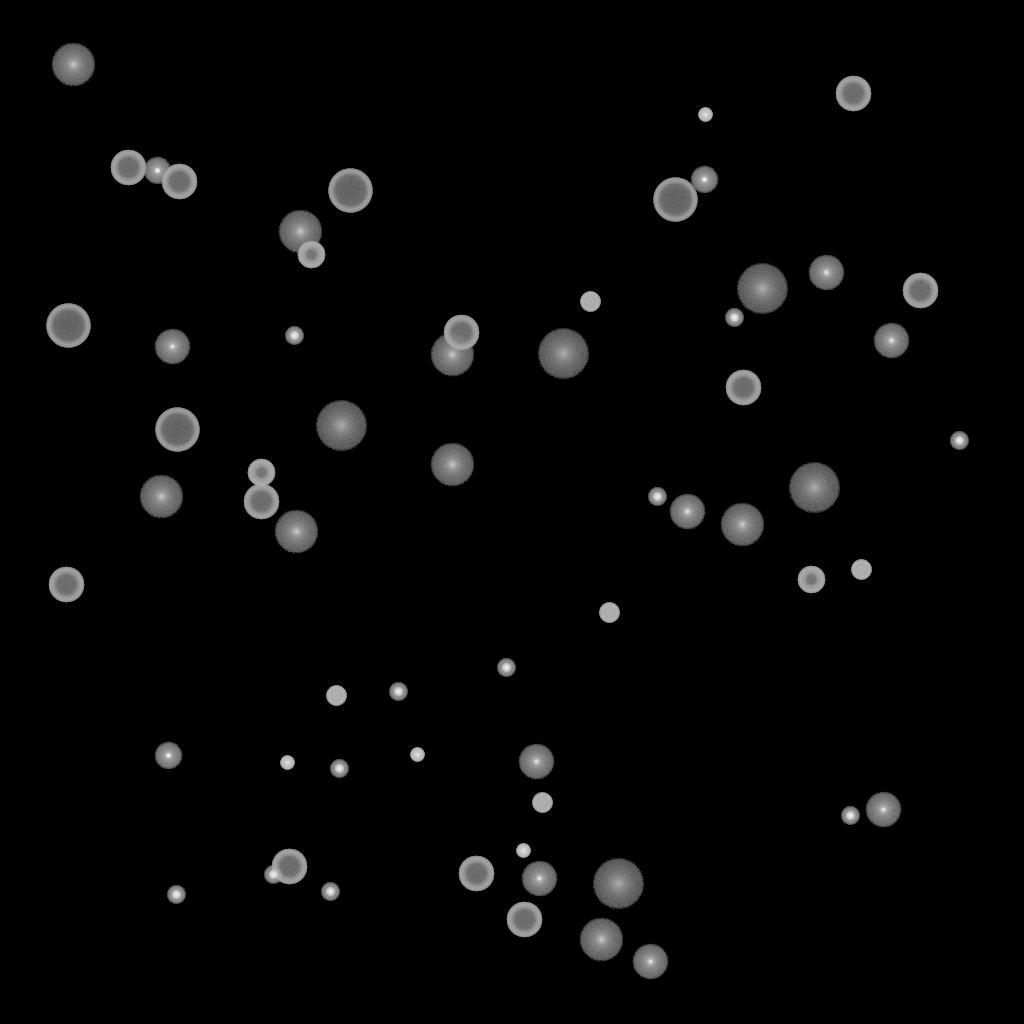depth:-10: (143, 157, 171, 185), (154, 742, 182, 770), (690, 166, 718, 194)
depth:-20: (167, 886, 185, 904), (725, 309, 743, 327), (950, 432, 968, 450), (648, 488, 666, 506), (389, 683, 407, 701), (321, 883, 339, 901), (285, 327, 303, 345), (497, 659, 515, 677), (330, 760, 348, 778), (841, 807, 859, 825), (264, 866, 282, 884)
depth:-30: (698, 108, 712, 122), (410, 748, 424, 762), (516, 844, 530, 858), (280, 756, 294, 770)
depth:-40: (851, 560, 871, 580), (326, 686, 346, 706), (599, 603, 619, 623), (580, 292, 600, 312), (532, 793, 552, 813)
depth:-50: (797, 566, 825, 594), (247, 459, 275, 487), (297, 241, 325, 269)
depth:-60: (835, 76, 871, 112), (902, 273, 938, 309), (243, 484, 279, 520), (443, 315, 479, 351), (110, 150, 146, 186), (506, 902, 542, 938), (458, 856, 494, 892), (161, 164, 197, 200), (48, 567, 84, 603), (271, 849, 307, 885), (725, 370, 761, 406)
depth:-70: (155, 408, 199, 452), (328, 169, 372, 213), (653, 178, 697, 222), (46, 304, 90, 348)
depth:0: (154, 329, 190, 365), (873, 323, 909, 359), (518, 744, 554, 780), (669, 494, 705, 530), (808, 255, 844, 291), (865, 792, 901, 828), (521, 861, 557, 897), (632, 944, 668, 980)
depth:10: (720, 503, 764, 547), (430, 333, 474, 377), (274, 510, 318, 554), (278, 210, 322, 254), (51, 43, 95, 87), (139, 475, 183, 519), (430, 443, 474, 487), (579, 918, 623, 962)
depth:20: (788, 463, 840, 513), (537, 329, 589, 379), (592, 859, 644, 909), (736, 264, 788, 314), (315, 401, 367, 451)
